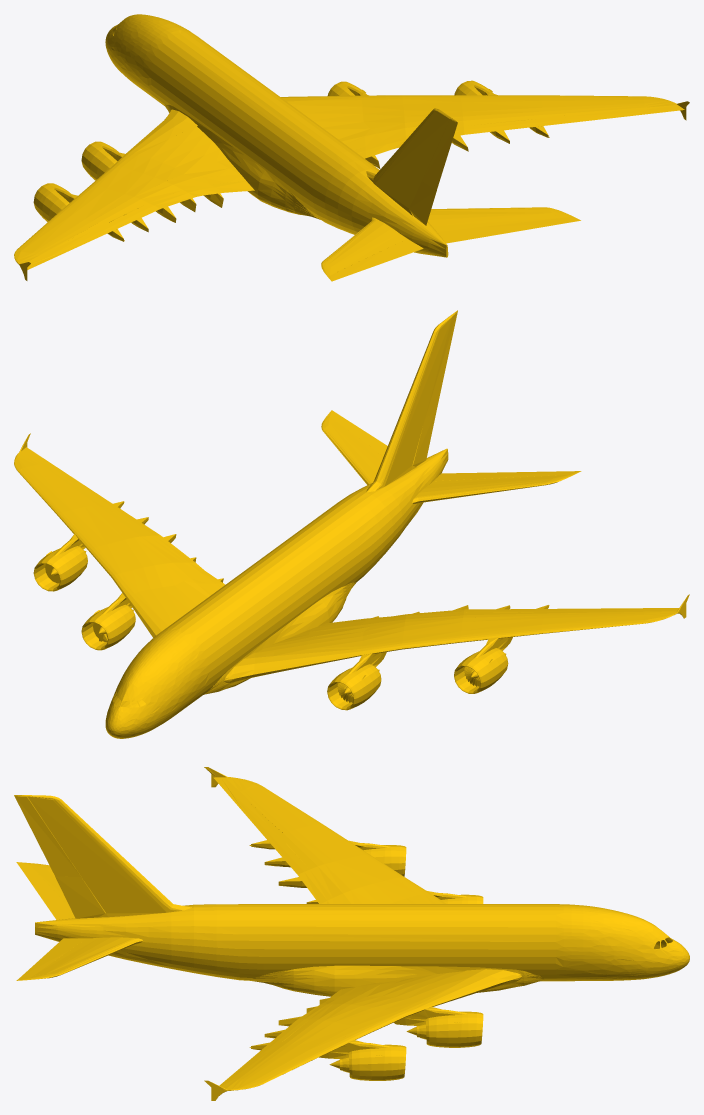
3 views of the same model, one above another, from view 1: azimuth 30°, elevation 25°; view 2: azimuth 150°, elevation 25°; view 3: azimuth 270°, elevation 25° (orthographic). The views are drawn at different scales.
Bounding box in the file's own units: 79.78 × 22.86 × 72.67.
